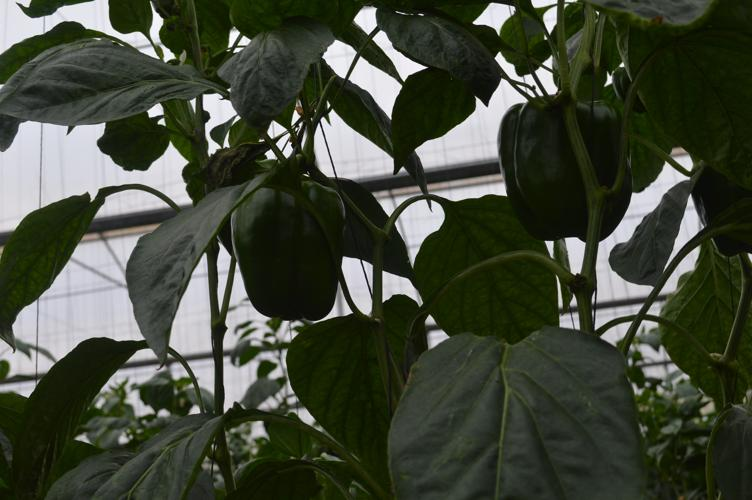BellPepper: (491, 80, 639, 244), (226, 170, 349, 329)
